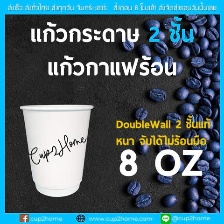paper_cup: (14, 97, 97, 200)
